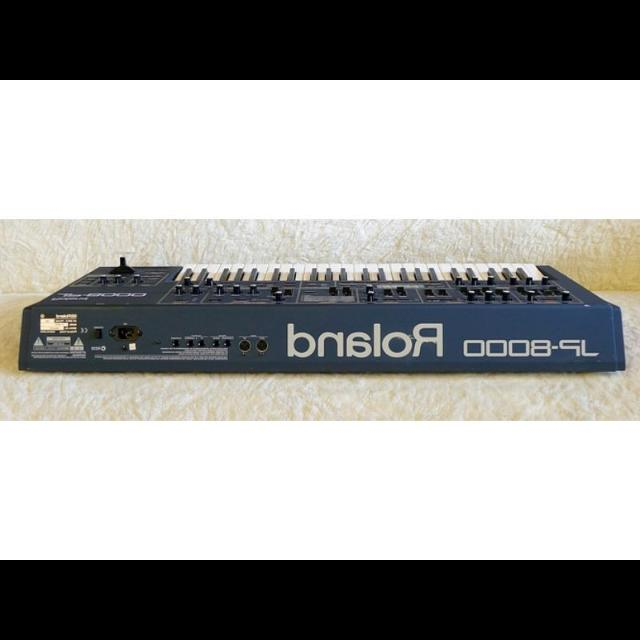Electronic-Keyboard: (12, 252, 636, 384)
